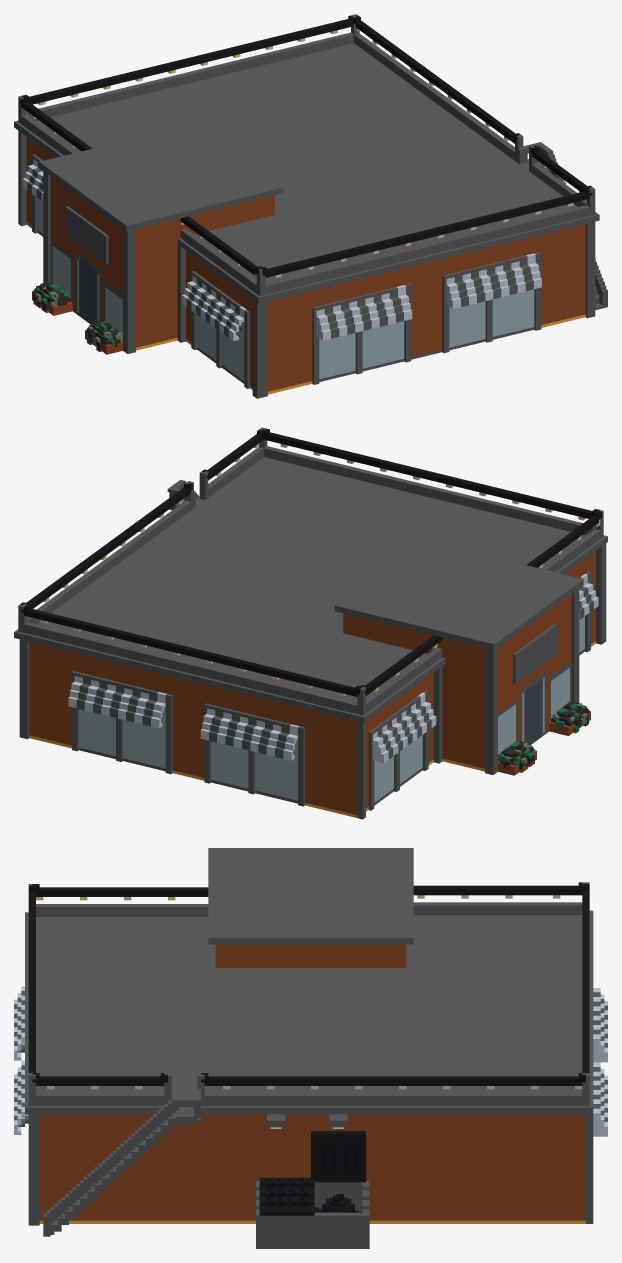
The model's file is Buildings Final For Import-0.obj.
3 views of the same model, one above another, from view 1: azimuth 30°, elevation 25°; view 2: azimuth 150°, elevation 25°; view 3: azimuth 270°, elevation 25° (orthographic). The views are drawn at different scales.
Size of the model in its own units: 16.6 by 4.6 by 16.2.
Materials: 1 (1 with a texture image).
